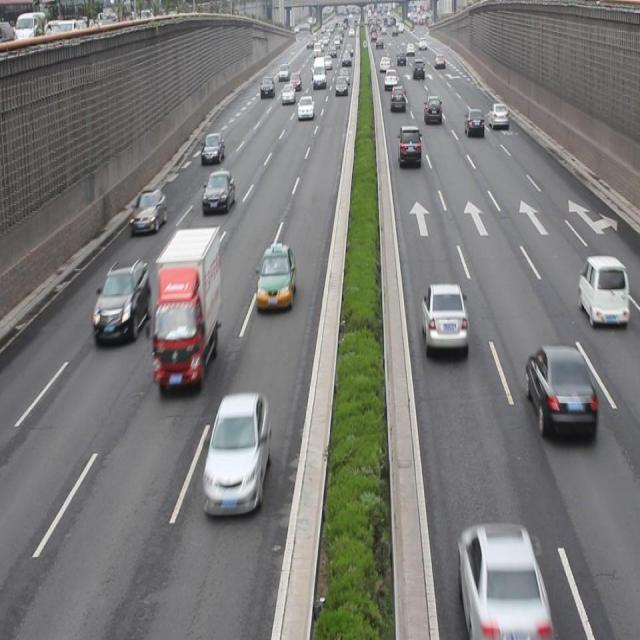bus: (153, 226, 219, 392)
car: (458, 521, 548, 640), (203, 391, 269, 514), (526, 345, 596, 442), (92, 260, 150, 342), (578, 253, 628, 324), (419, 282, 468, 352), (254, 244, 296, 311), (130, 187, 166, 235), (201, 169, 235, 216), (398, 124, 421, 170), (201, 132, 224, 163), (464, 107, 484, 138), (423, 94, 442, 126), (487, 101, 508, 129)
